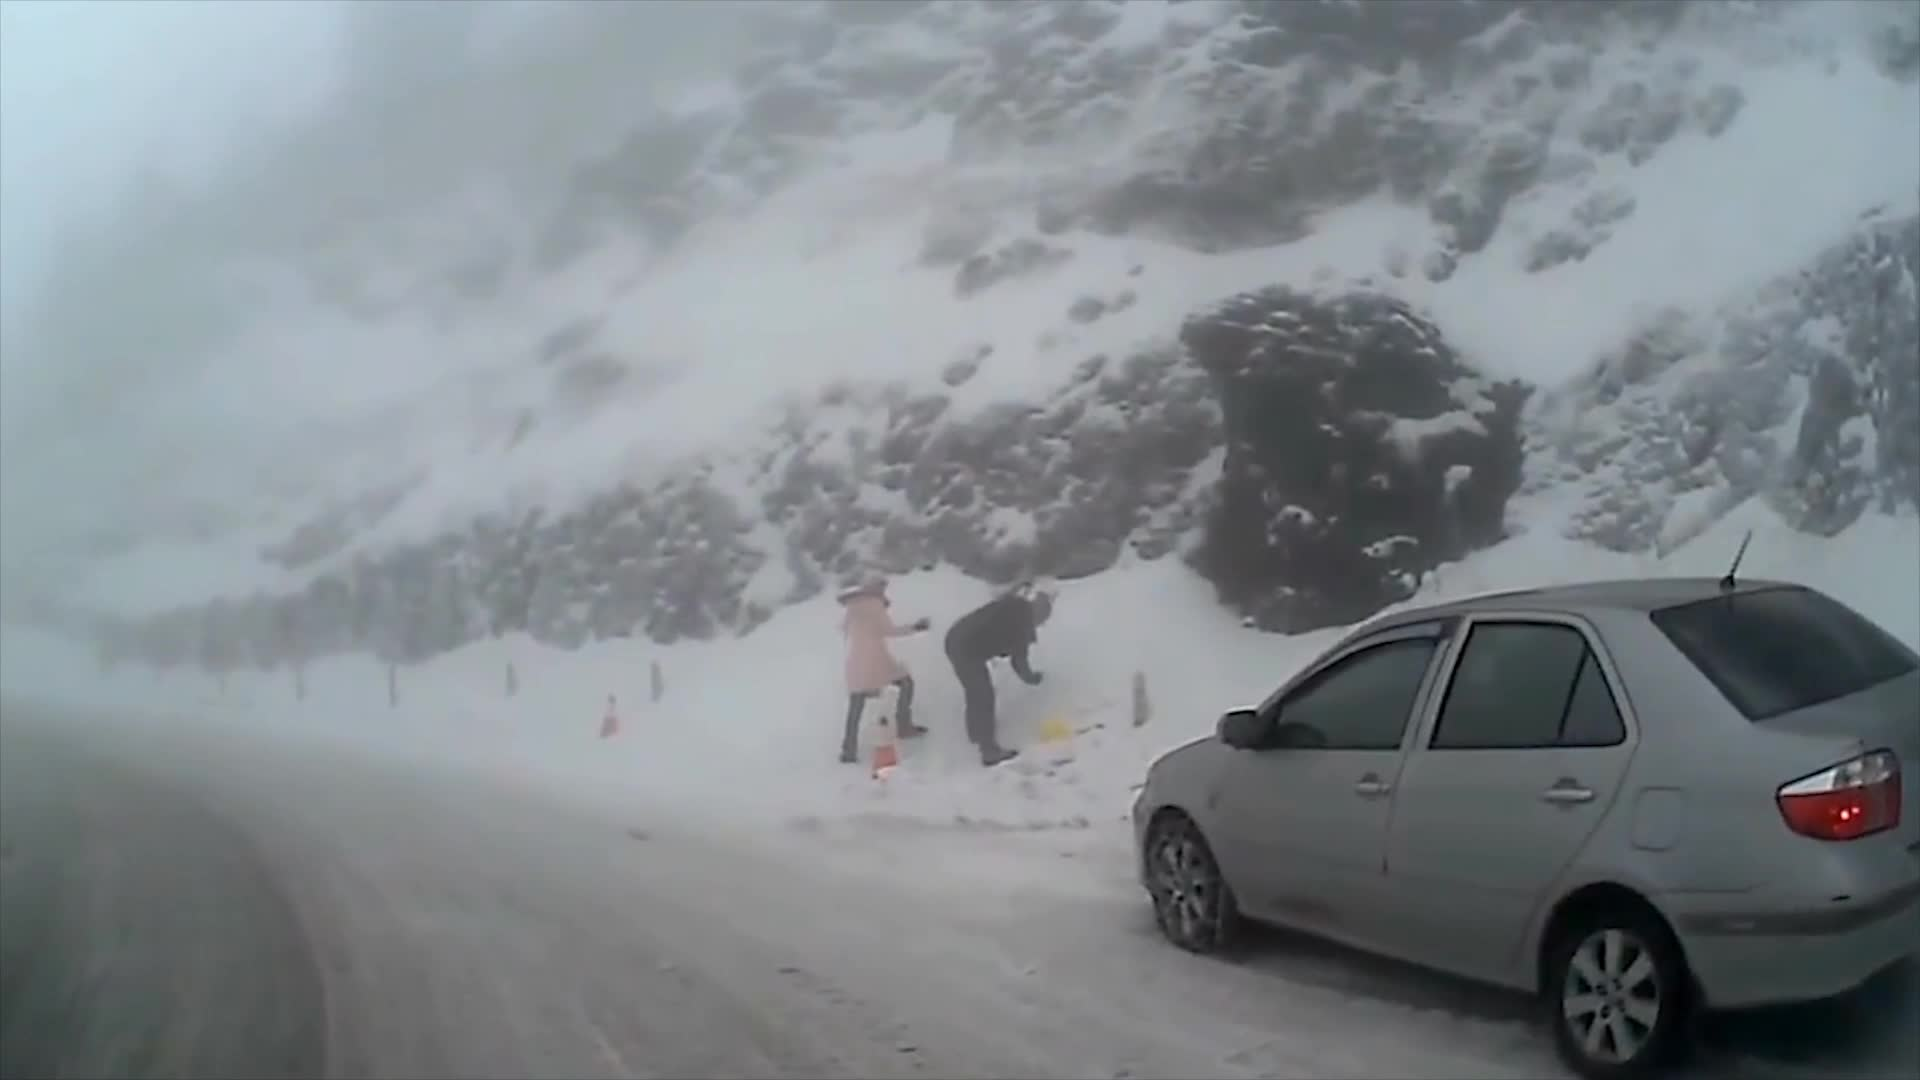pedestrian: (829, 567, 934, 763), (947, 587, 1055, 769)
vehicle: (1133, 575, 1920, 1080)
